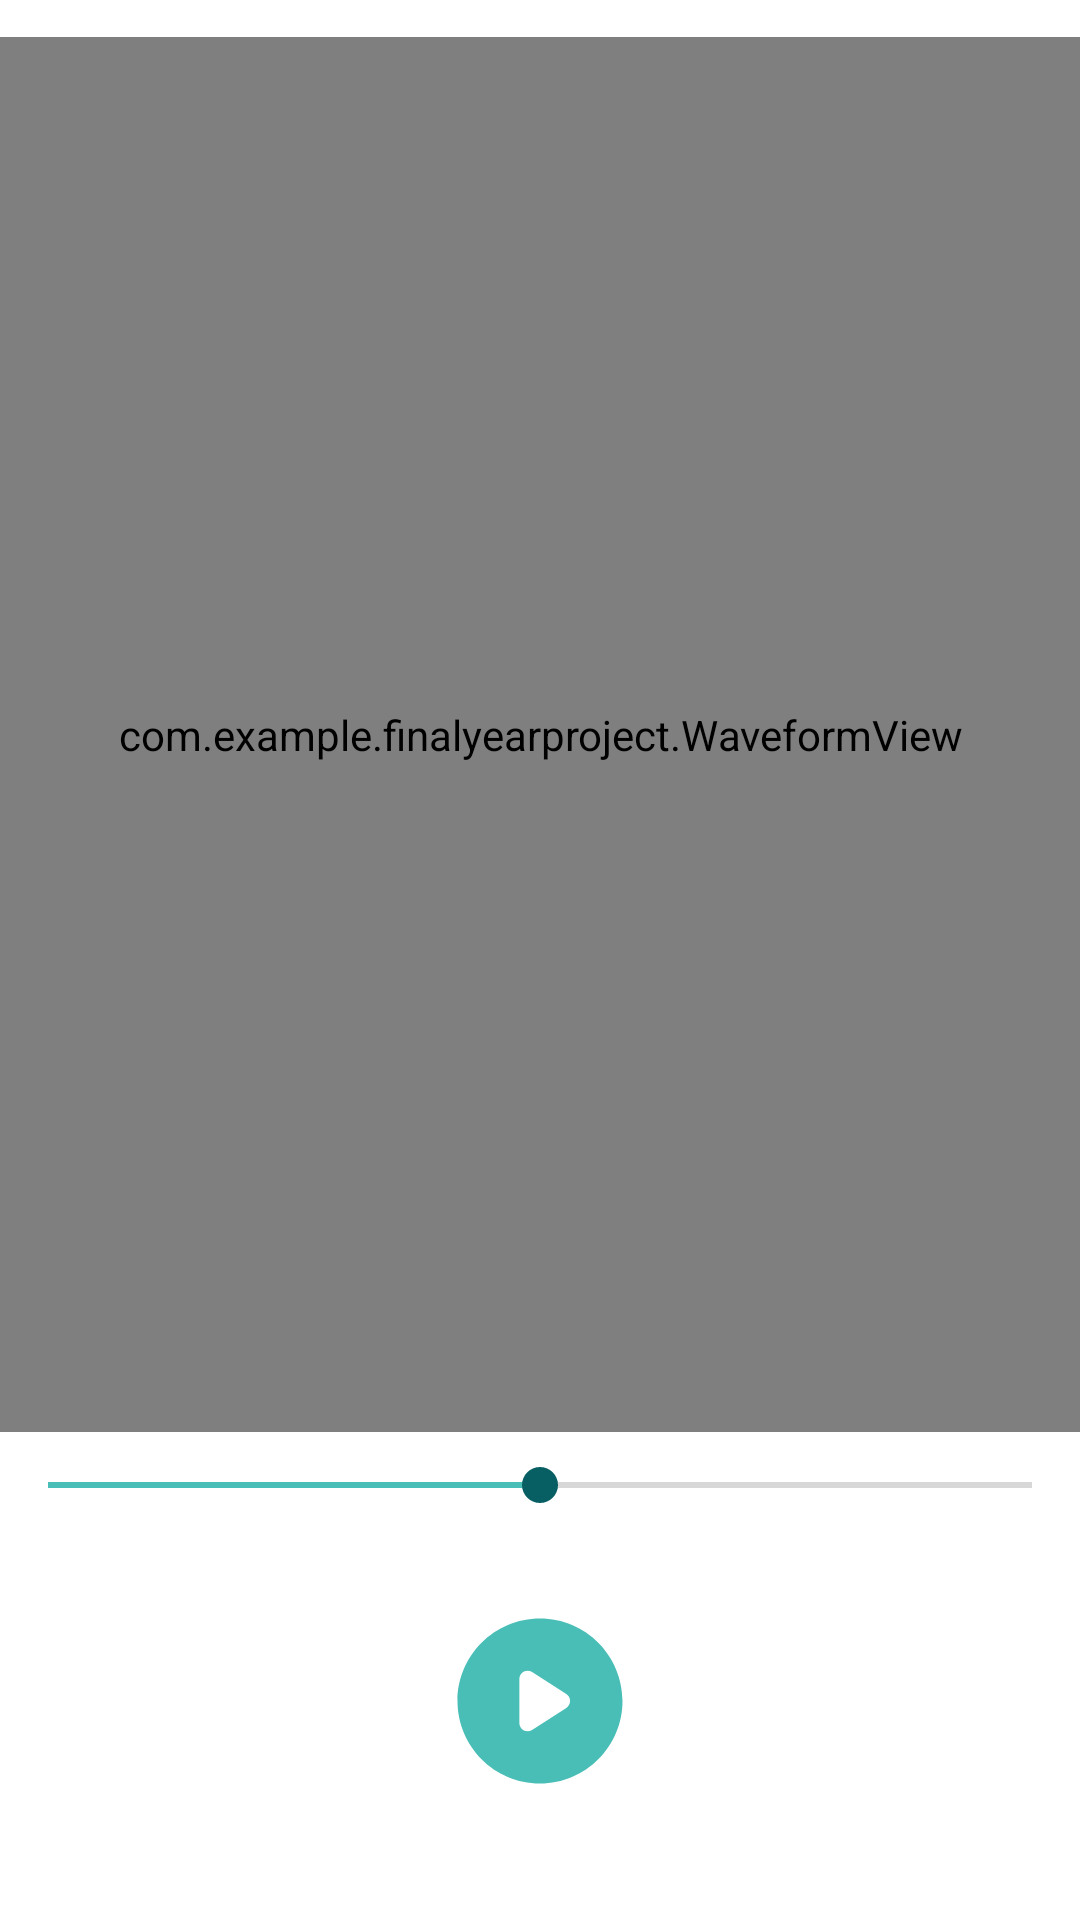

Icon click points for this 1080px x 1920px phone screenshot, format (x,y):
play circle: (540,1701)
